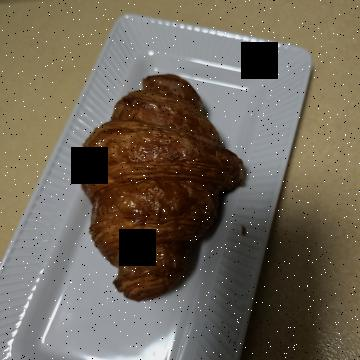croissant: (73, 112, 318, 290)
